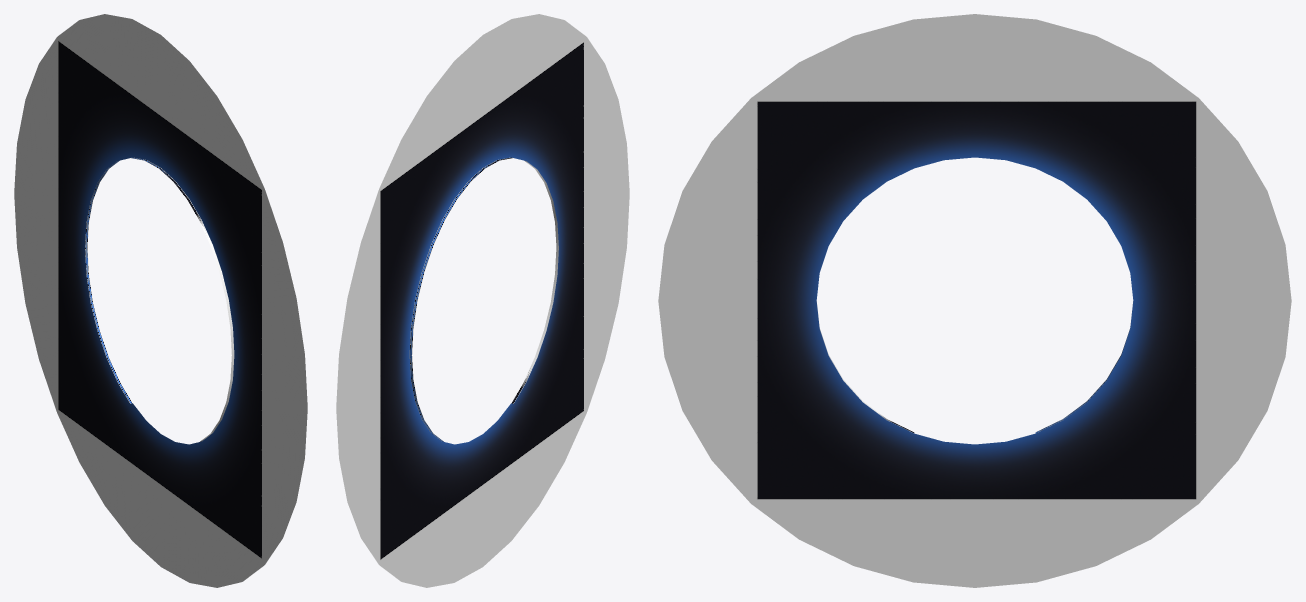
File: atmosphere.obj
The picture shows the model from 3 angles, left to right: view 1: azimuth 30°, elevation 25°; view 2: azimuth 150°, elevation 25°; view 3: azimuth 270°, elevation 25°; orthographic projection. The views are drawn at different scales.
Visible parts, largest first — view 1: atmosphere; view 2: atmosphere; view 3: atmosphere.
Boxes of the visible parts, bbox=[...] form: atmosphere: bbox=[14, 14, 307, 587]; atmosphere: bbox=[336, 14, 629, 587]; atmosphere: bbox=[658, 14, 1291, 587].
Bounding box in the file's own units: 0.005 × 1 × 1.
1 material, 1 textured.
